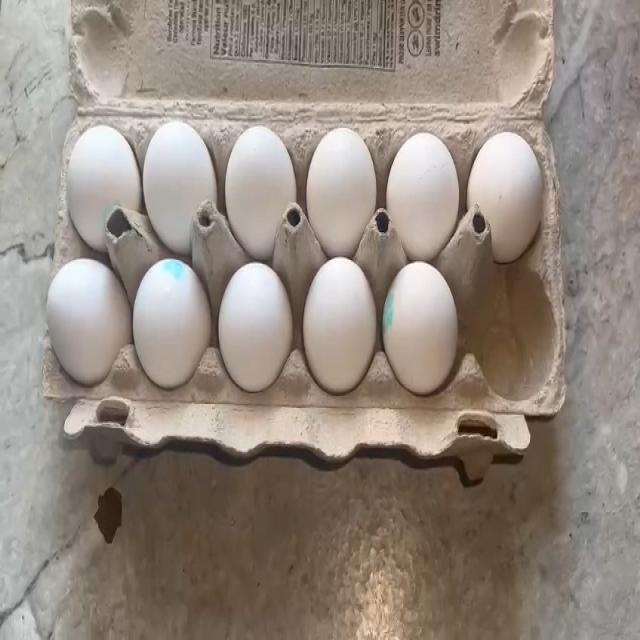Egg: (141, 271, 214, 384), (64, 113, 130, 226), (148, 124, 209, 238), (390, 270, 452, 376), (394, 138, 460, 233), (52, 271, 118, 366), (232, 129, 292, 232), (316, 271, 372, 378), (230, 271, 288, 373), (320, 130, 370, 240), (474, 142, 536, 228)
